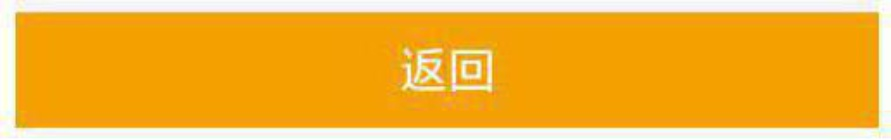Button: (1, 1, 890, 139)
